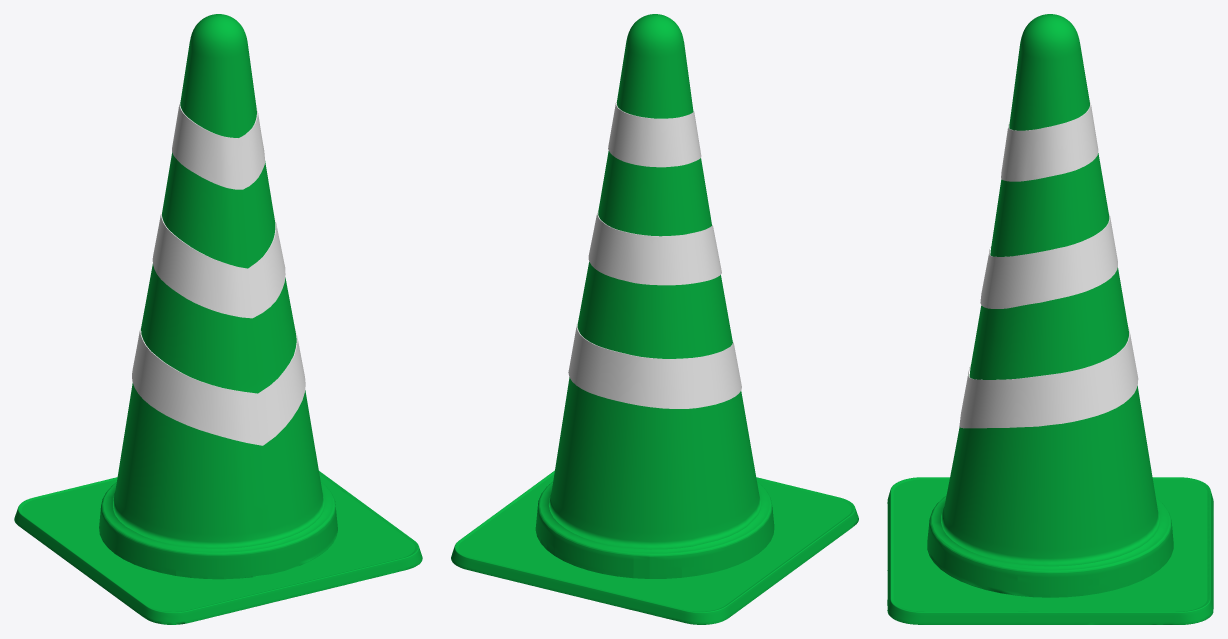
The model's file is Preset_ScotCone_GRN.fbx.
3 renders of one model, left to right at view 1: azimuth 30°, elevation 25°; view 2: azimuth 150°, elevation 25°; view 3: azimuth 270°, elevation 25°, orthographic. The views are drawn at different scales.
Parts seen in each view (by area): view 1: c_upper, c_bottom, bottom, c_middle, middle, c_bottom2, upper; view 2: c_upper, c_bottom, bottom, c_middle, c_bottom2, middle, upper; view 3: c_upper, c_bottom, bottom, c_middle, middle, c_bottom2, upper.
Part boxes in pixels (x1=…): c_upper: x1=113, y1=14, x2=324, y2=548; c_bottom: x1=22, y1=475, x2=414, y2=611; bottom: x1=132, y1=320, x2=305, y2=445; c_middle: x1=99, y1=482, x2=337, y2=579; middle: x1=152, y1=207, x2=285, y2=318; c_bottom2: x1=14, y1=471, x2=422, y2=624; upper: x1=172, y1=99, x2=264, y2=189; c_upper: x1=549, y1=14, x2=761, y2=549; c_bottom: x1=458, y1=474, x2=851, y2=611; bottom: x1=568, y1=322, x2=741, y2=408; c_middle: x1=535, y1=481, x2=774, y2=578; c_bottom2: x1=451, y1=470, x2=858, y2=624; middle: x1=588, y1=210, x2=721, y2=285; upper: x1=608, y1=101, x2=701, y2=167; c_upper: x1=941, y1=14, x2=1159, y2=566; c_bottom: x1=893, y1=479, x2=1207, y2=611; bottom: x1=959, y1=326, x2=1138, y2=428; c_middle: x1=927, y1=496, x2=1173, y2=597; middle: x1=980, y1=213, x2=1117, y2=308; c_bottom2: x1=887, y1=477, x2=1213, y2=624; upper: x1=1001, y1=101, x2=1098, y2=181.
Size of the model in its own units: 38.28 by 38.28 by 69.87.
